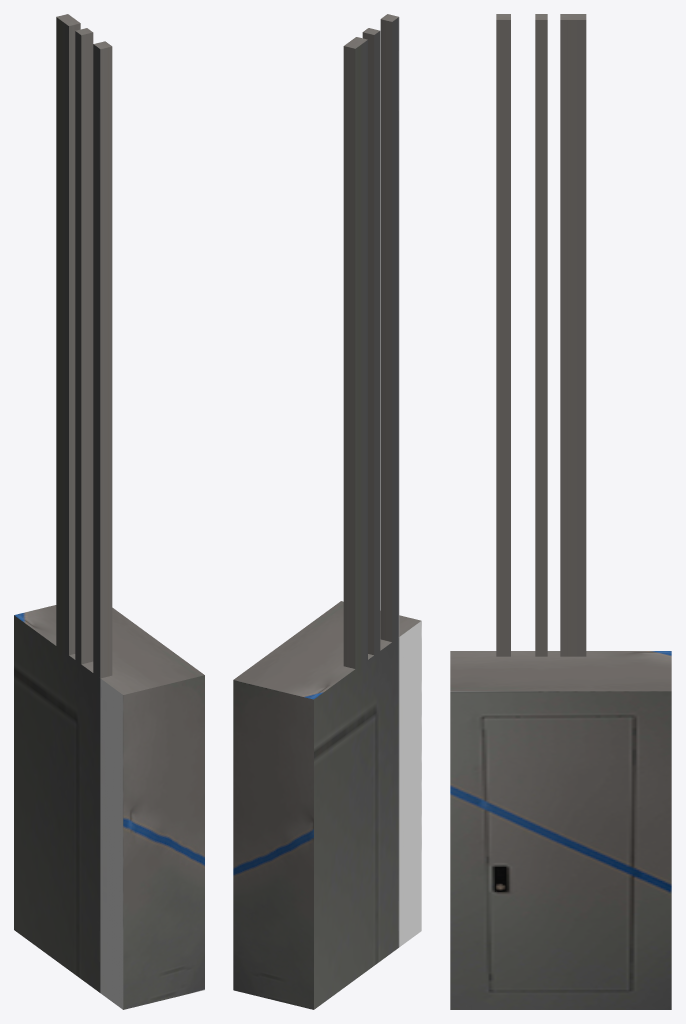
Rendered from FuzeBox.fbx.
3 views of the same model, side by side, from view 1: azimuth 30°, elevation 25°; view 2: azimuth 150°, elevation 25°; view 3: azimuth 270°, elevation 25° (orthographic). The views are drawn at different scales.
Parts seen in each view (by area): view 1: Cube.055; view 2: Cube.055; view 3: Cube.055.
Part boxes in pixels (<box>): Cube.055: <box>14,14,204,1009</box>; Cube.055: <box>233,14,421,1009</box>; Cube.055: <box>450,14,671,1009</box>.
Bounding box in the file's own units: 2 × 22.08 × 4.63.
